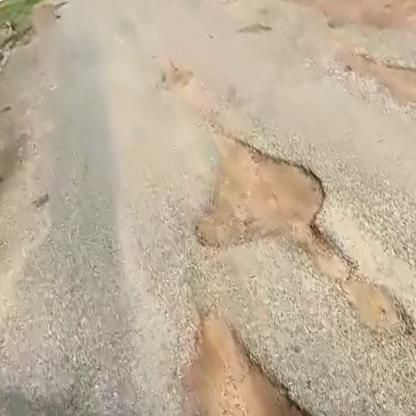pothole: (131, 270, 390, 416), (173, 121, 337, 265), (304, 217, 416, 370)
